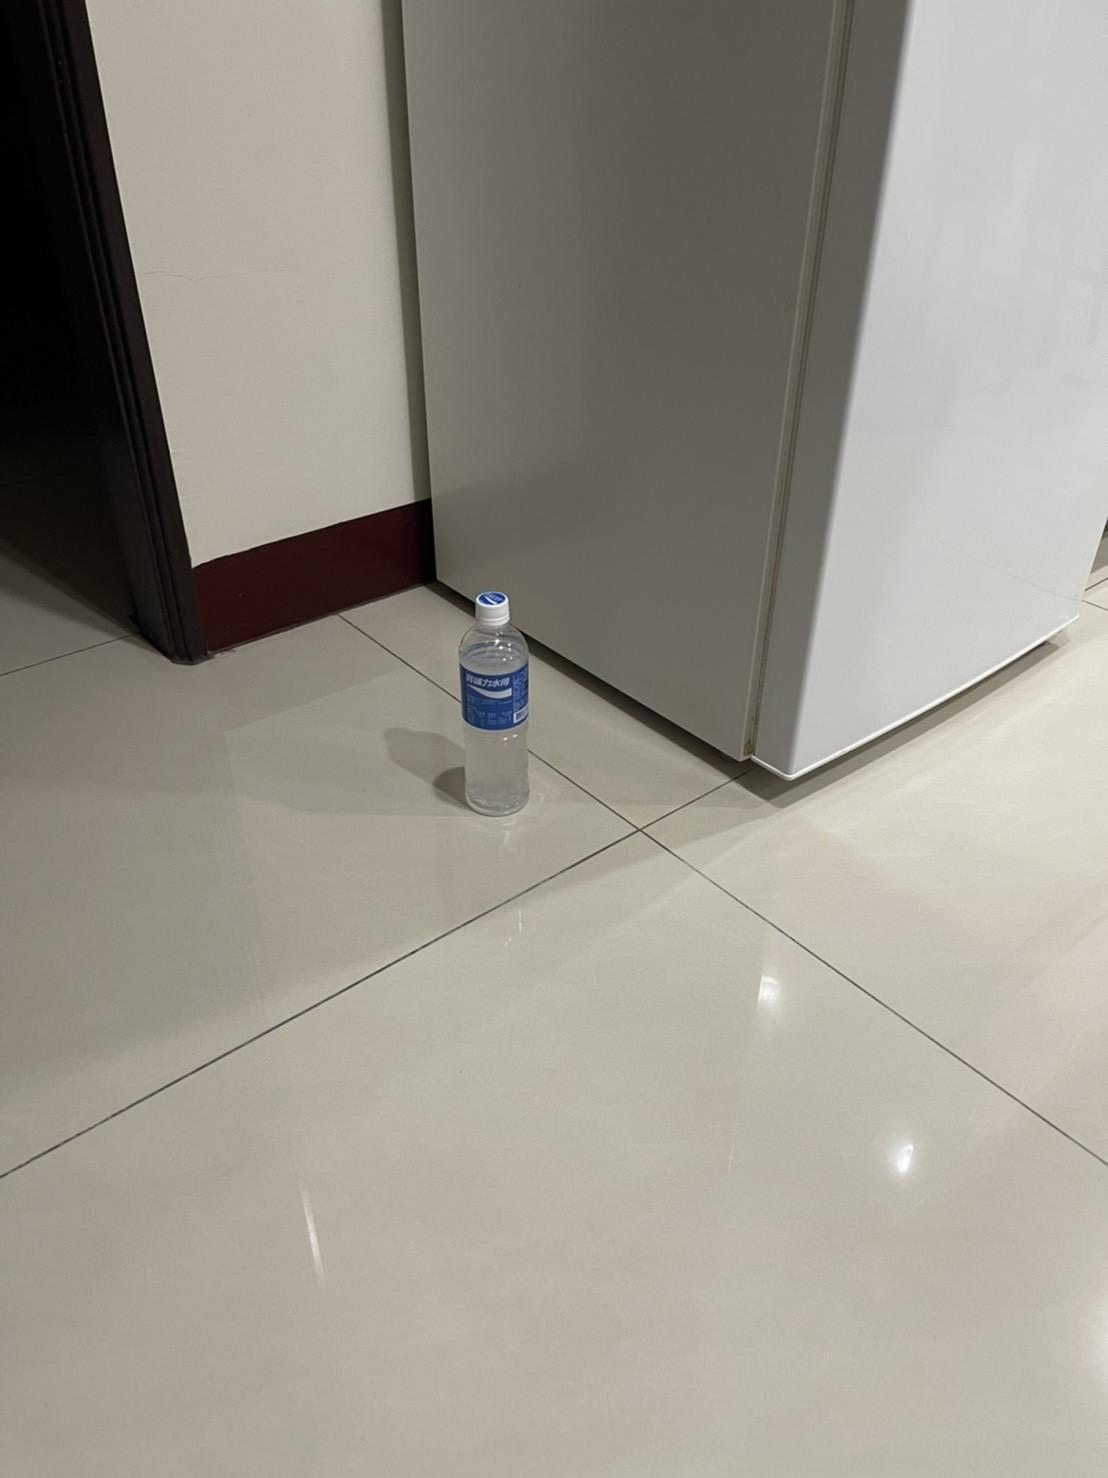bottle: (446, 580, 535, 830)
